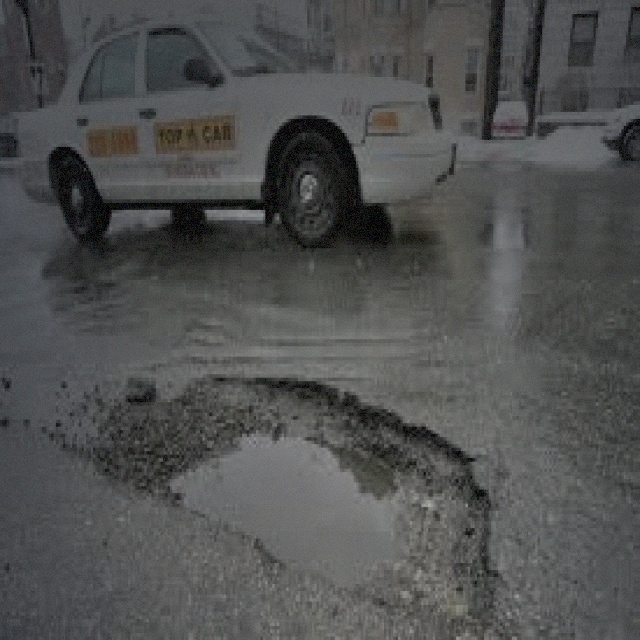pothole: (95, 360, 496, 612)
